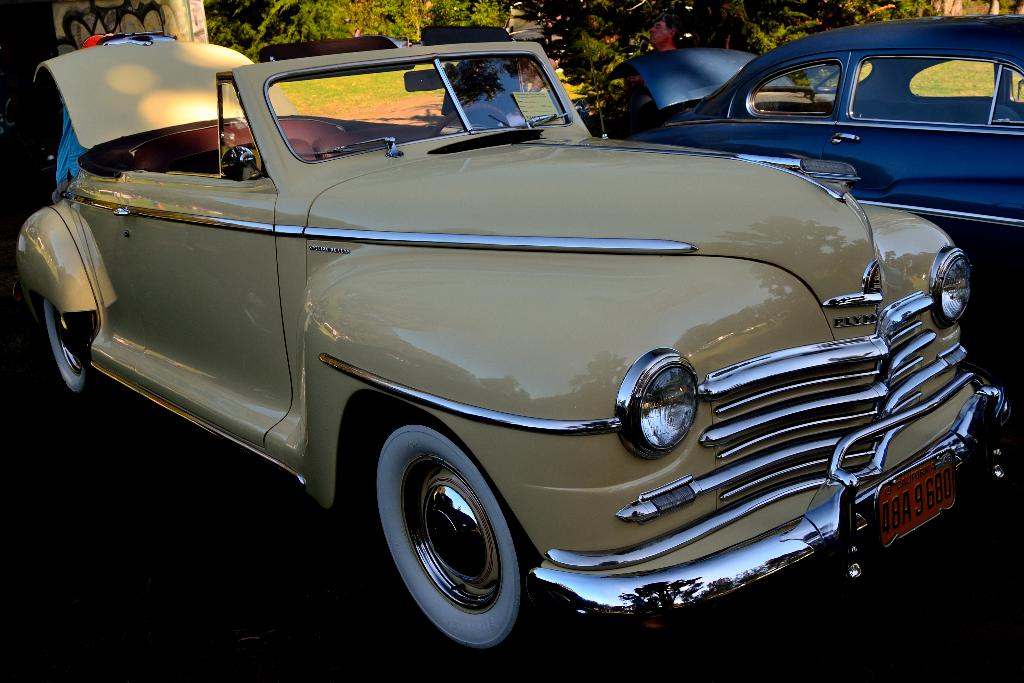Tree: (192, 0, 946, 136)
